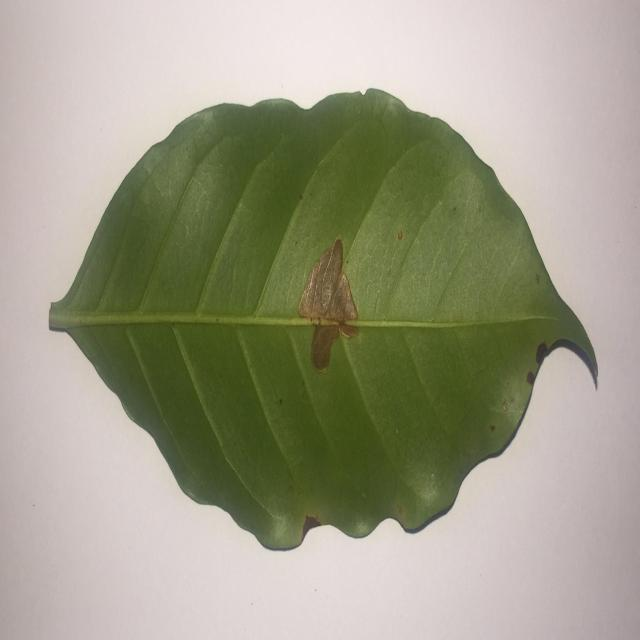Plaga-Minador: (48, 89, 597, 554)
